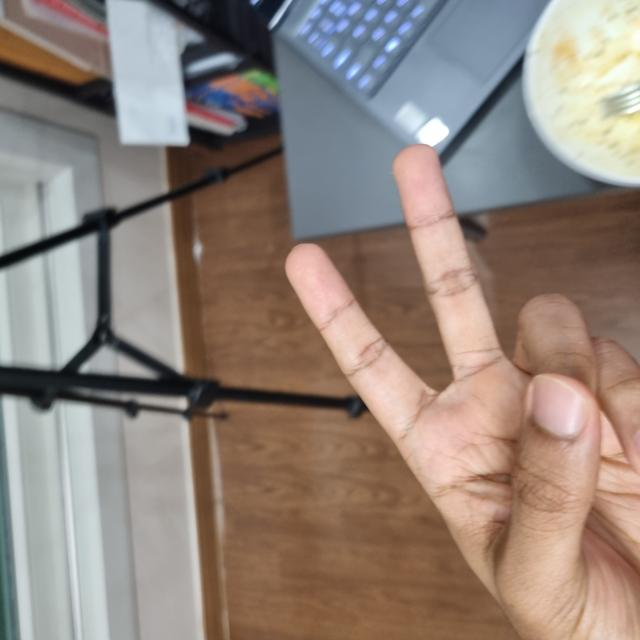Scissors: (1, 285, 492, 640)
